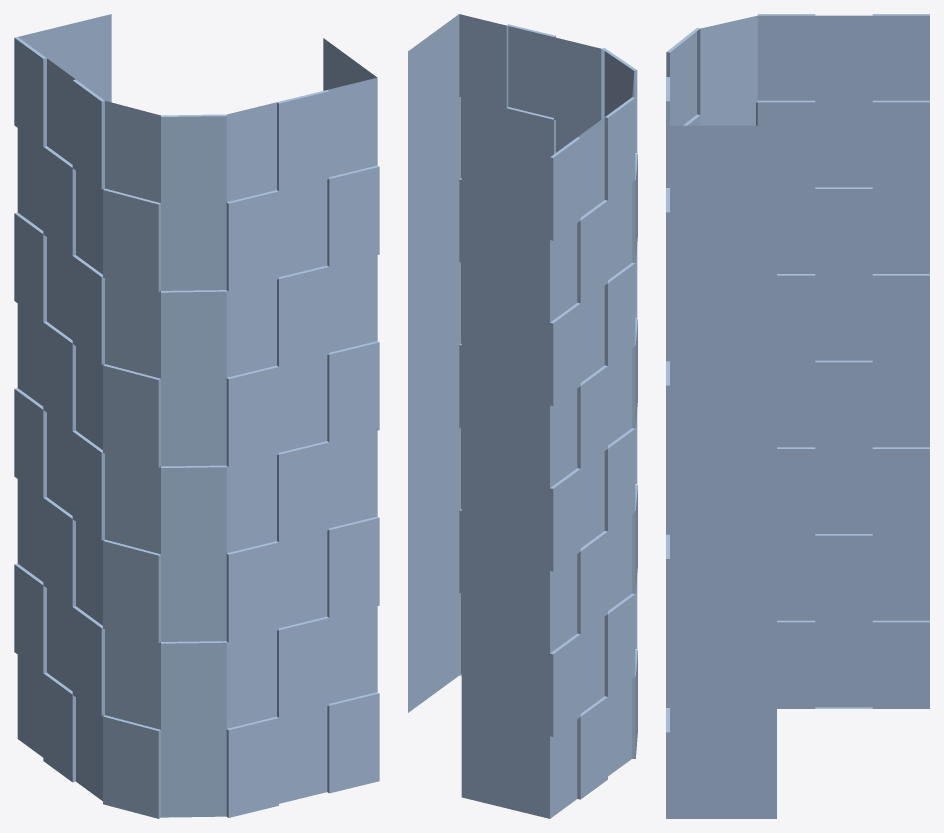
Rendered from ColumnaGiroNS.gltf.
3 renders of one model, left to right at view 1: azimuth 30°, elevation 25°; view 2: azimuth 150°, elevation 25°; view 3: azimuth 270°, elevation 25°, orthographic. The views are drawn at different scales.
Visible parts, largest first — view 1: Columna Ns; view 2: Columna Ns; view 3: Columna Ns.
Boxes of the visible parts, x1,y1,x2,y2 form: Columna Ns: (14, 14, 379, 818); Columna Ns: (408, 14, 637, 818); Columna Ns: (666, 14, 929, 818).
Bounding box in the file's own units: 0.69 × 2 × 0.69.
